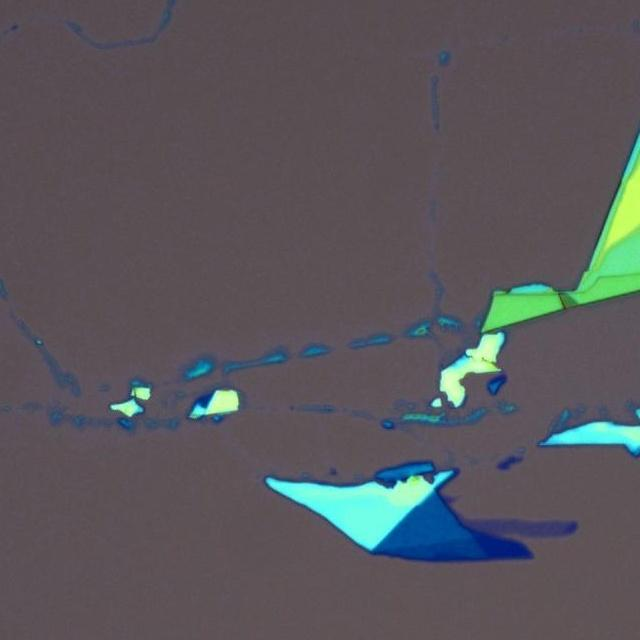monolayer-eWW4: (463, 516, 570, 539)
